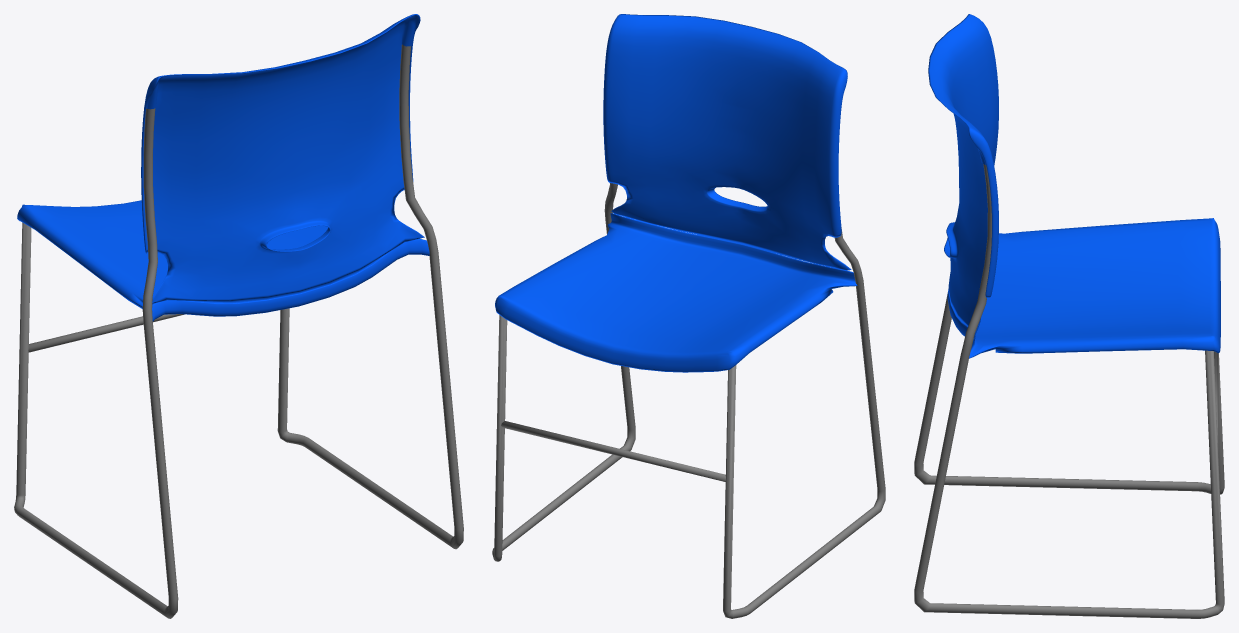
The picture shows the model from 3 angles, left to right: view 1: azimuth 30°, elevation 25°; view 2: azimuth 150°, elevation 25°; view 3: azimuth 270°, elevation 25°; orthographic projection. The views are drawn at different scales.
Visible parts, largest first — view 1: Object_2, Object_1; view 2: Object_2, Object_1; view 3: Object_2, Object_1.
Boxes of the visible parts, x1,y1,x2,y2 form: Object_2: [17, 14, 429, 321]; Object_1: [14, 44, 463, 618]; Object_2: [495, 14, 857, 372]; Object_1: [492, 183, 885, 618]; Object_2: [928, 14, 1220, 358]; Object_1: [914, 164, 1224, 618].
Bounding box in the file's own units: 0.4572 × 0.7867 × 0.4572.
